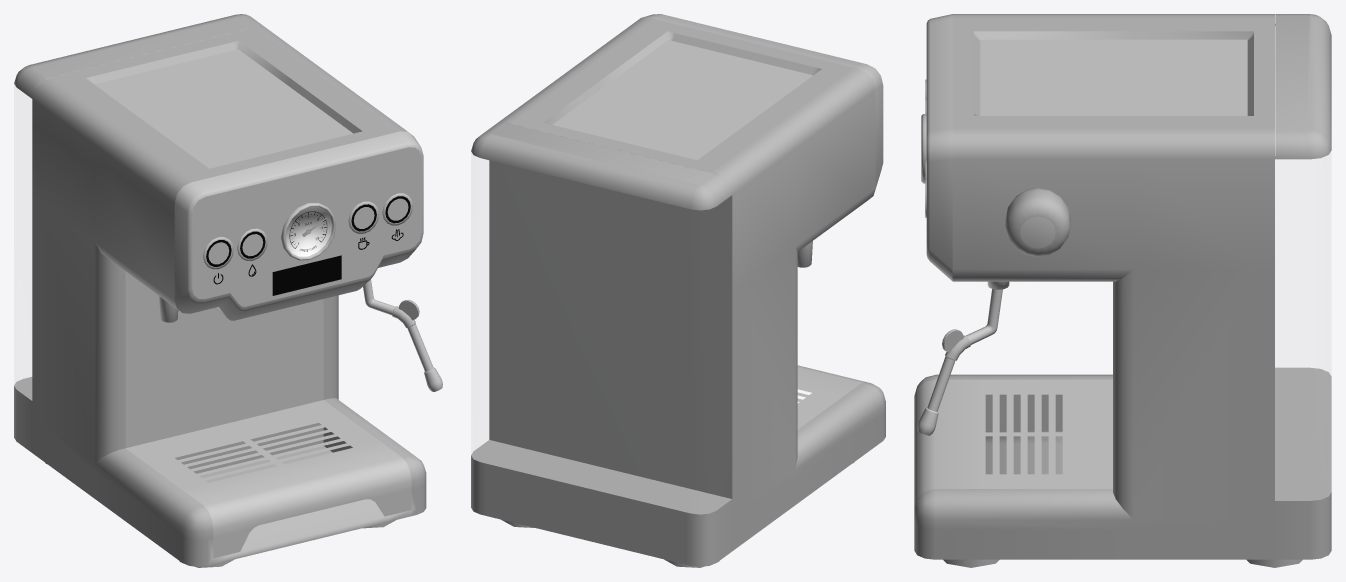
File: Machine_Espresso.fbx
3 renders of one model, left to right at view 1: azimuth 30°, elevation 25°; view 2: azimuth 150°, elevation 25°; view 3: azimuth 270°, elevation 25°, orthographic. The views are drawn at different scales.
Visible parts, largest first — view 1: Machine_Espresso, Button 4, Button 3, Button 1, Button 2; view 2: Machine_Espresso; view 3: Machine_Espresso, Button Lever.
Boxes of the visible parts, box(x1,y1,x2,y2) form: Machine_Espresso: box(14, 14, 442, 567); Button 4: box(382, 193, 412, 225); Button 3: box(348, 201, 379, 233); Button 1: box(203, 237, 233, 269); Button 2: box(237, 228, 267, 260); Machine_Espresso: box(471, 14, 885, 567); Machine_Espresso: box(914, 14, 1331, 567); Button Lever: box(1005, 188, 1070, 256).
Size of the model in its own units: 0.2391 by 0.2767 by 0.3183.
